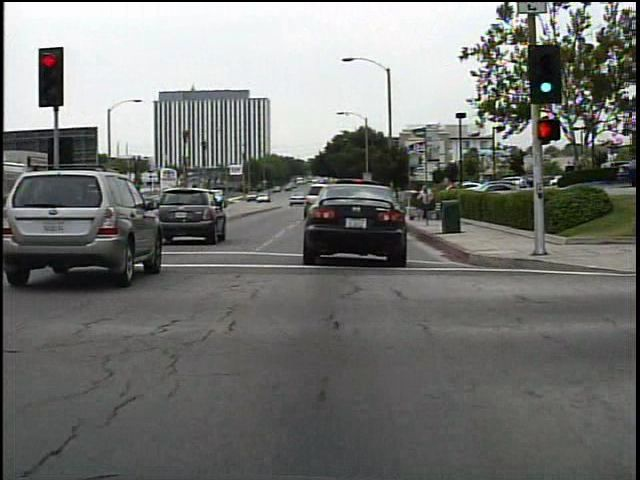person: (414, 179, 435, 224)
